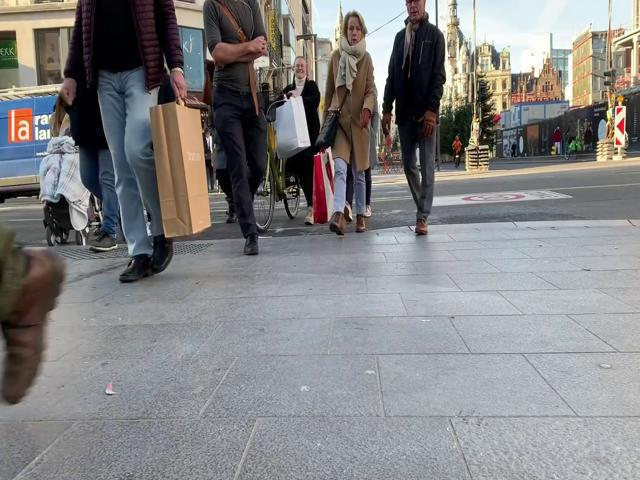shoe: (115, 256, 155, 282), (151, 235, 173, 273), (89, 234, 118, 252), (243, 235, 260, 255), (331, 214, 345, 236), (415, 217, 429, 236), (355, 216, 366, 233)
